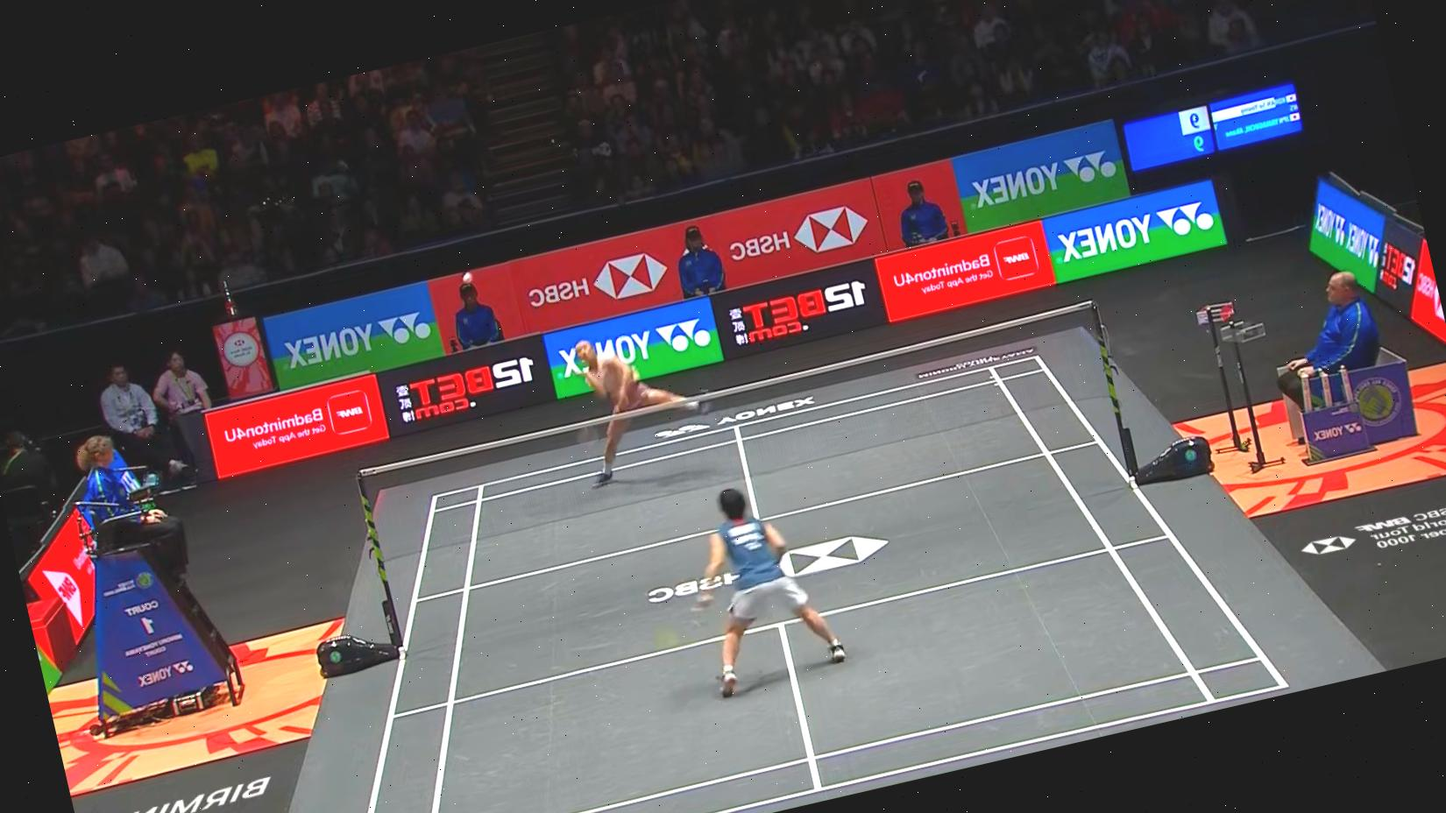Player 1: (532, 304, 728, 503)
Player 2: (660, 469, 856, 713)
shuttle: (456, 267, 479, 290)
